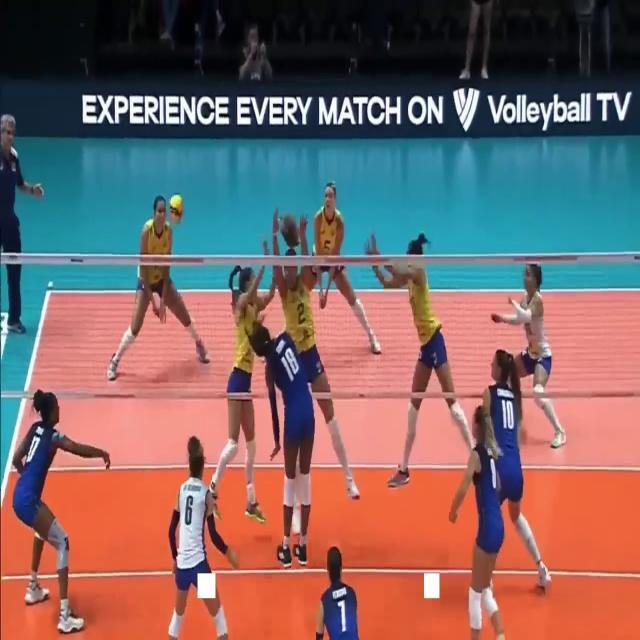volleyball: (168, 194, 185, 222)
